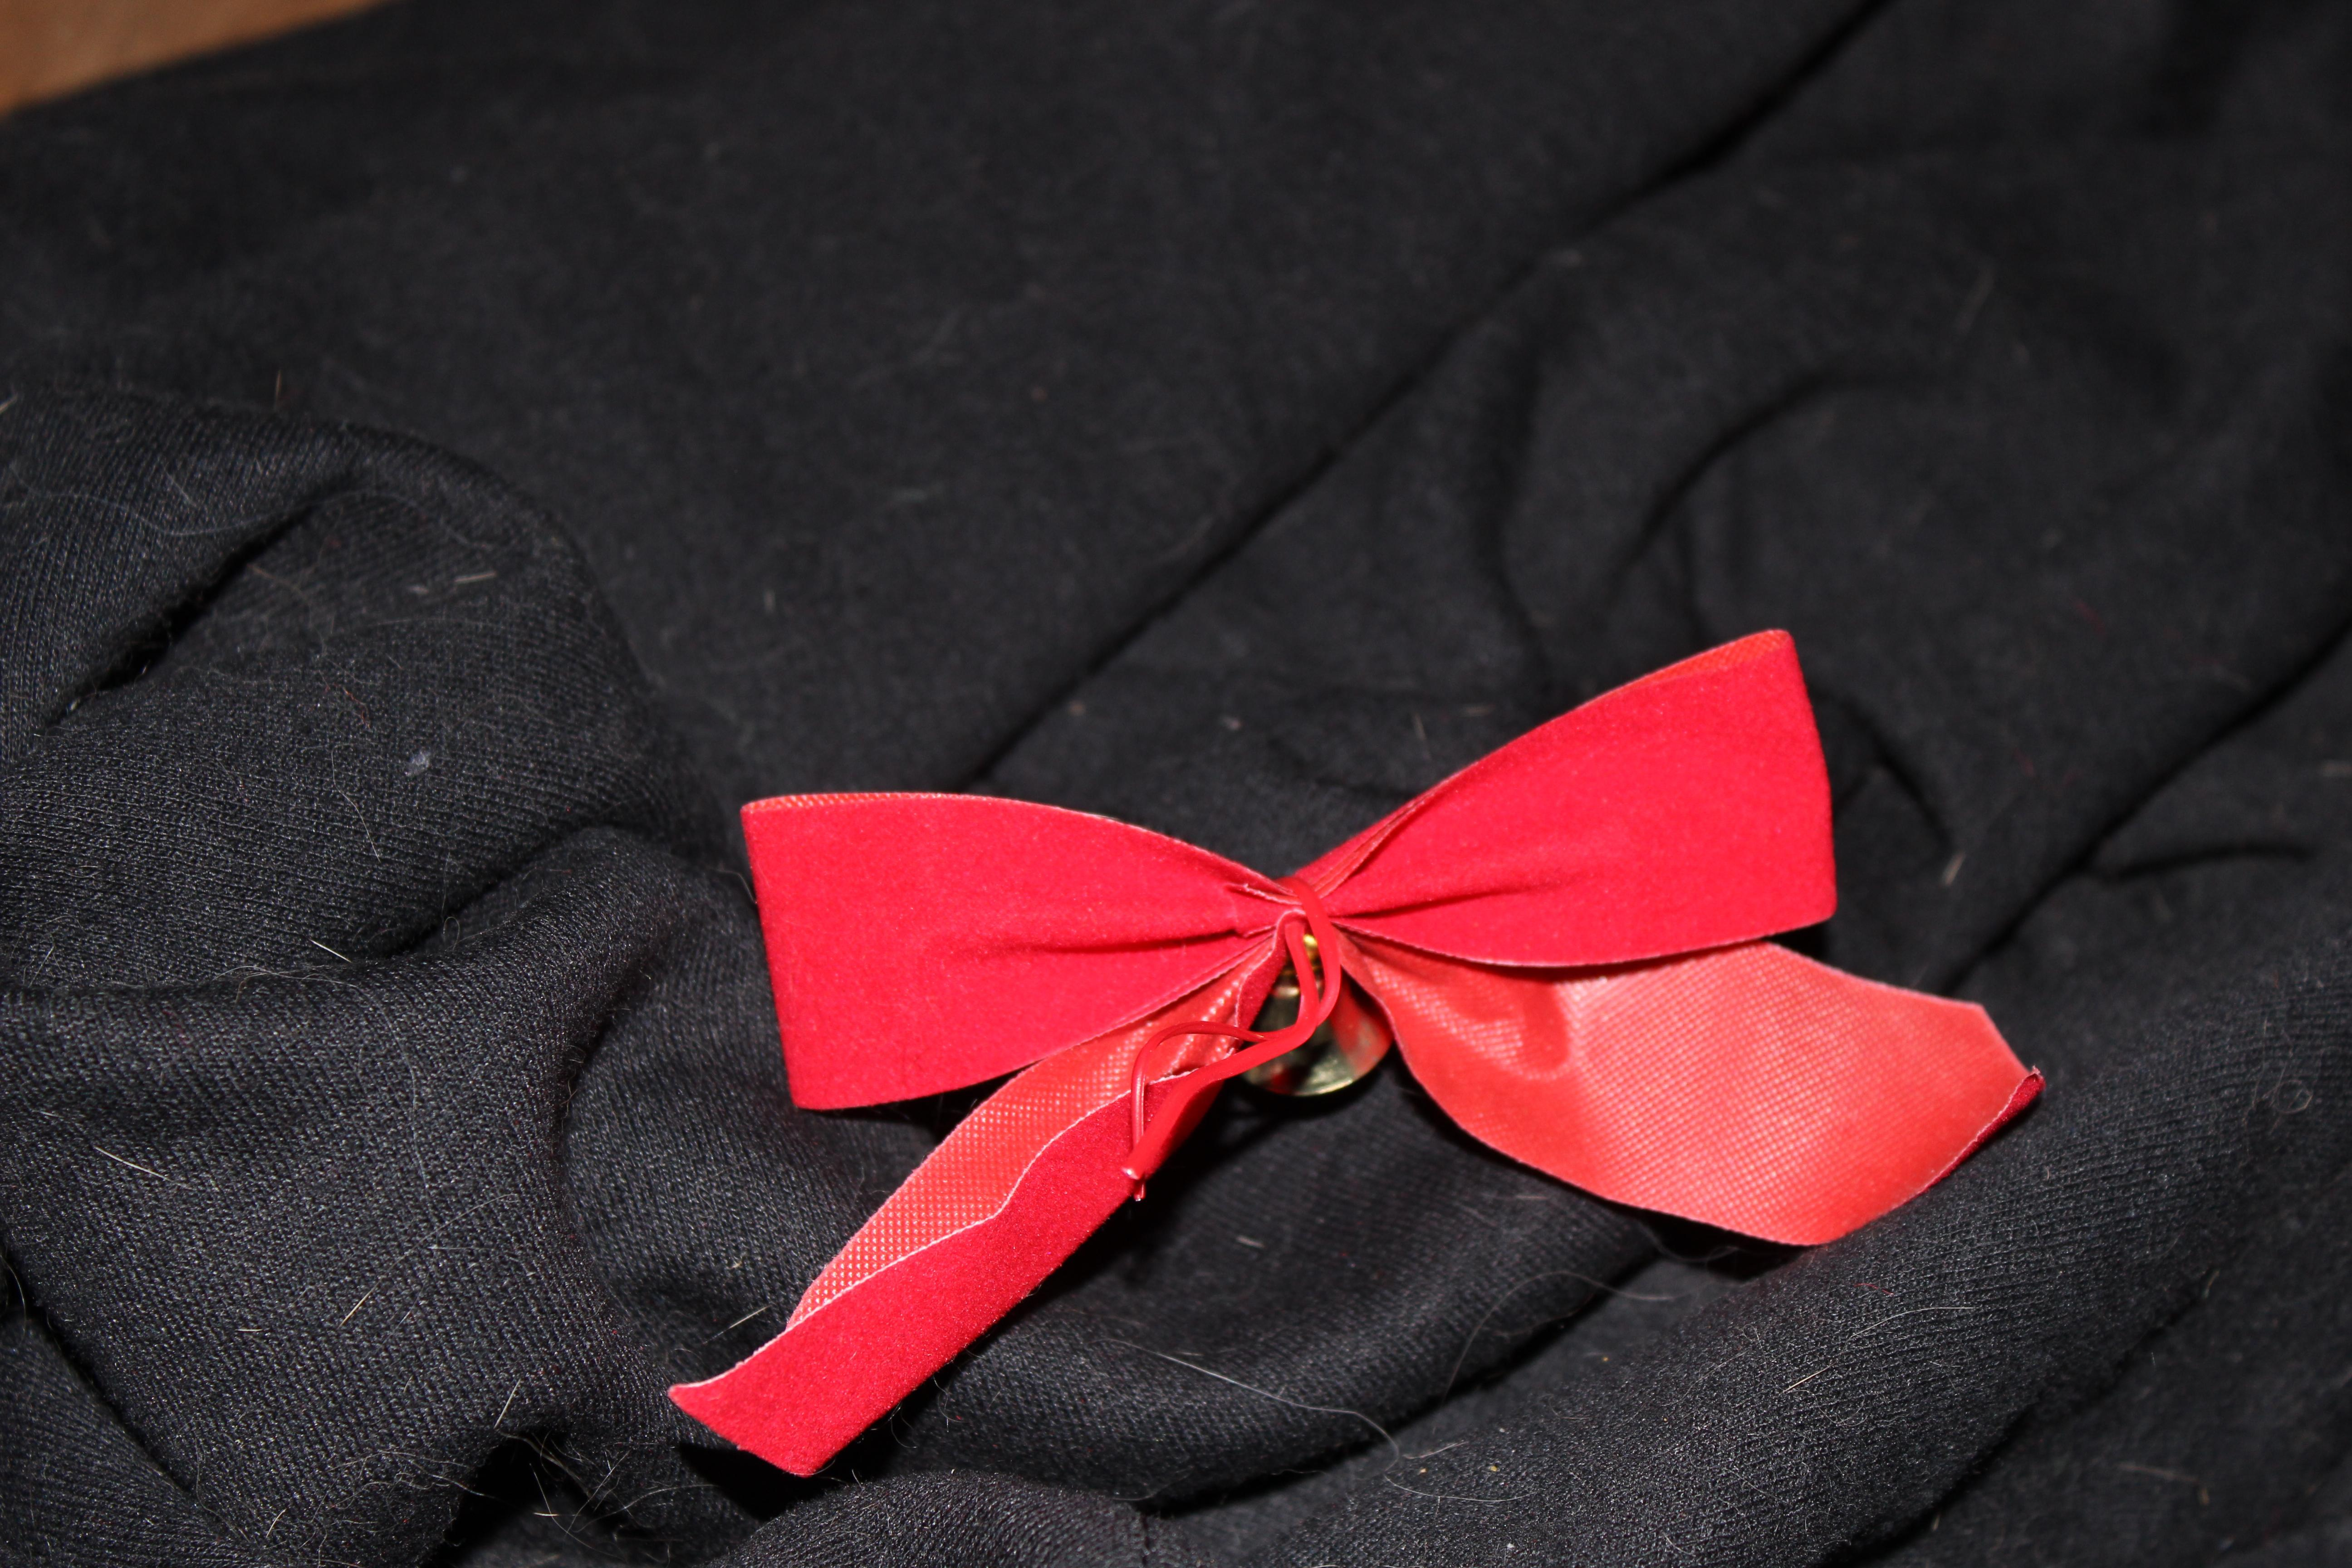redBow: (640, 593, 2079, 1507)
